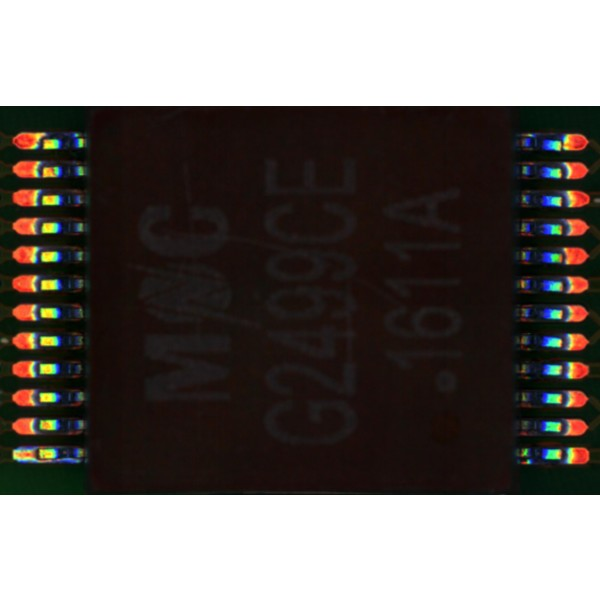Bad_qiaojiao: (39, 444, 74, 450), (36, 459, 79, 463)
